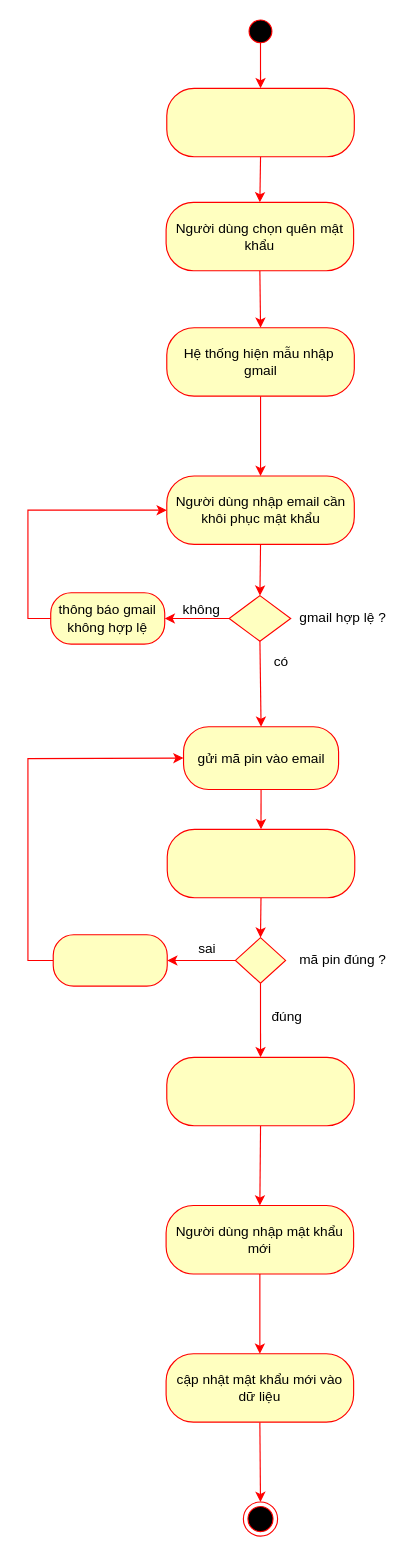
Image size: 420x1556. Some labels were removed from this diagram. The shapes that lost their labels are listed below. From the top down, each one's centre as x and y in pixels, then its label:
At point (260, 122): "truy cập trang đăng nhập".
At point (260, 863): "Người dùng nhập mã pin".
At point (109, 960): "thông báo mã pin sai".
At point (260, 1091): "hiện mẫu nhập lại mật khẩu mới".
